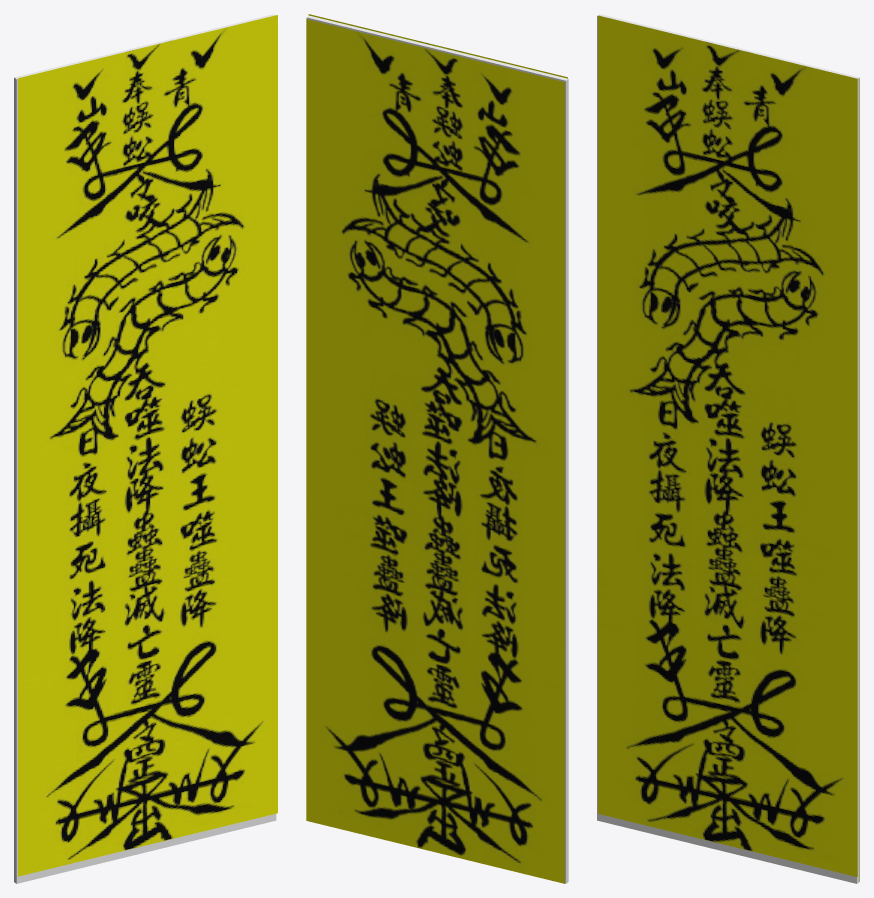
The model's file is FuChou.fbx.
3 views of the same model, side by side, from view 1: azimuth 30°, elevation 25°; view 2: azimuth 150°, elevation 25°; view 3: azimuth 330°, elevation 25° (orthographic).
Parts seen in each view (by area): view 1: root, node_id7; view 2: node_id5, node_id7, root; view 3: root, node_id7, node_id5.
Boxes of the visible parts, left/top/right/bottom form: root: left=18, top=15, right=277, bottom=876; node_id7: left=14, top=14, right=276, bottom=883; node_id5: left=306, top=19, right=564, bottom=883; node_id7: left=306, top=15, right=568, bottom=883; root: left=308, top=14, right=567, bottom=78; root: left=598, top=15, right=857, bottom=876; node_id7: left=597, top=14, right=859, bottom=883; node_id5: left=859, top=78, right=859, bottom=881.
Size of the model in its own units: 0.1738 by 0.5127 by 0.00387.
3 materials, 3 textured.
